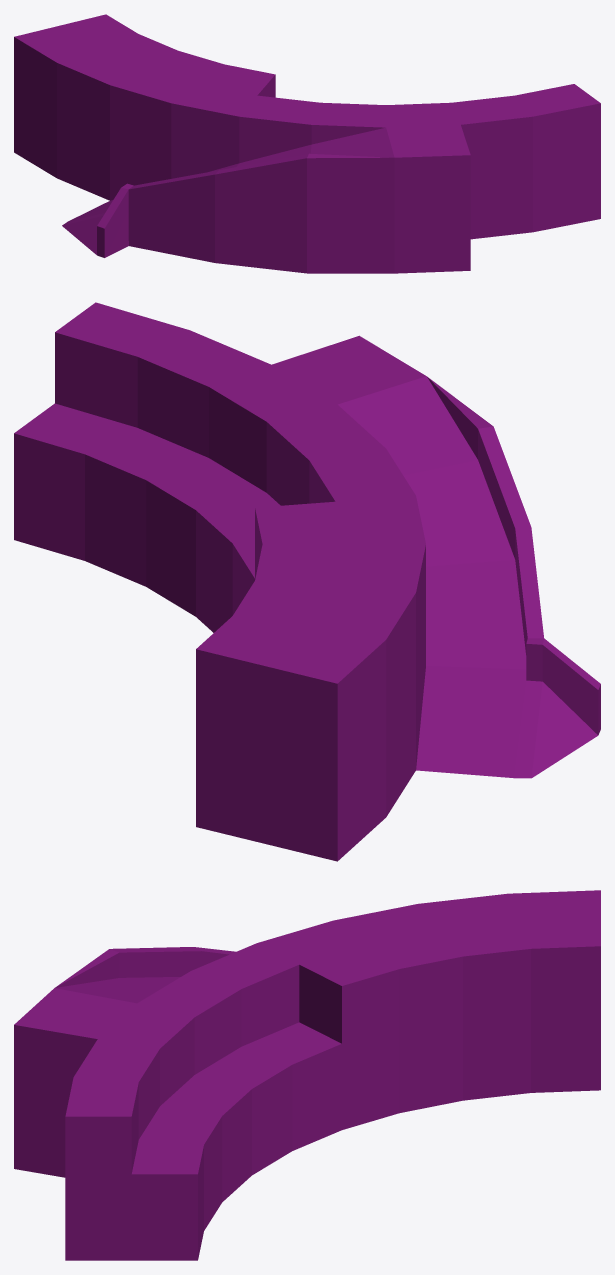
The model's file is courtyard_outerwall2.fbx.
3 views of the same model, one above another, from view 1: azimuth 30°, elevation 25°; view 2: azimuth 150°, elevation 25°; view 3: azimuth 270°, elevation 25° (orthographic). The views are drawn at different scales.
Parts seen in each view (by area): view 1: courtyard_outer_5; view 2: courtyard_outer_5; view 3: courtyard_outer_5.
Boxes of the visible parts, x1,y1,x2,y2 form: courtyard_outer_5: (14,14,600,273); courtyard_outer_5: (14,302,600,861); courtyard_outer_5: (14,890,600,1260).
Bounding box in the file's own units: 44.65 × 11.9 × 43.84.
